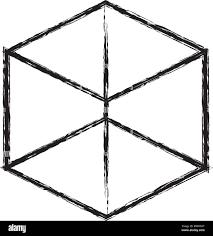cubos: (0, 1, 213, 221)
